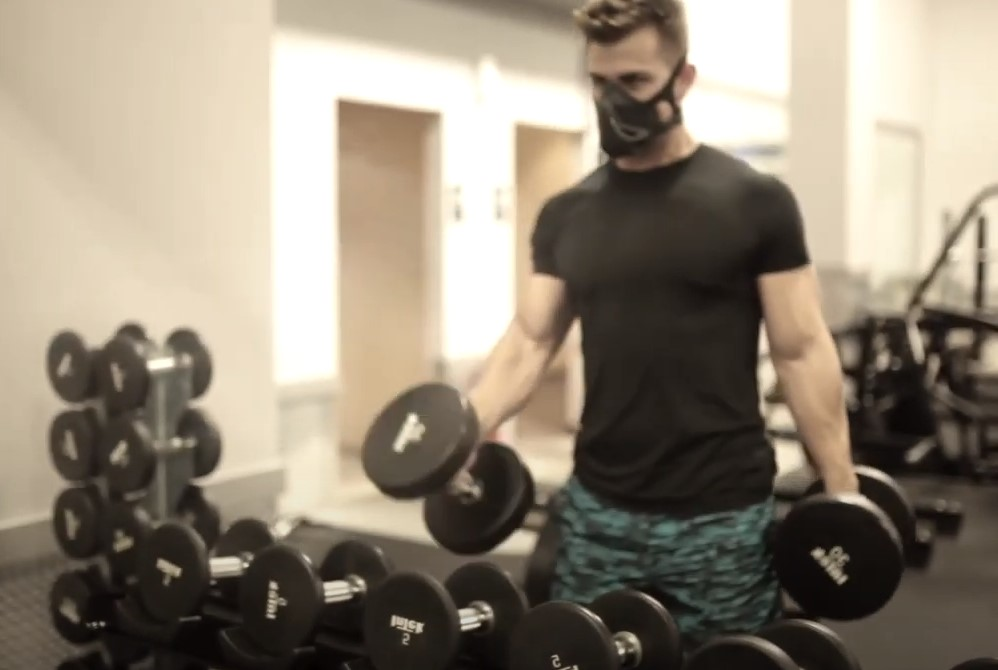face_with_mask: (581, 7, 697, 157)
